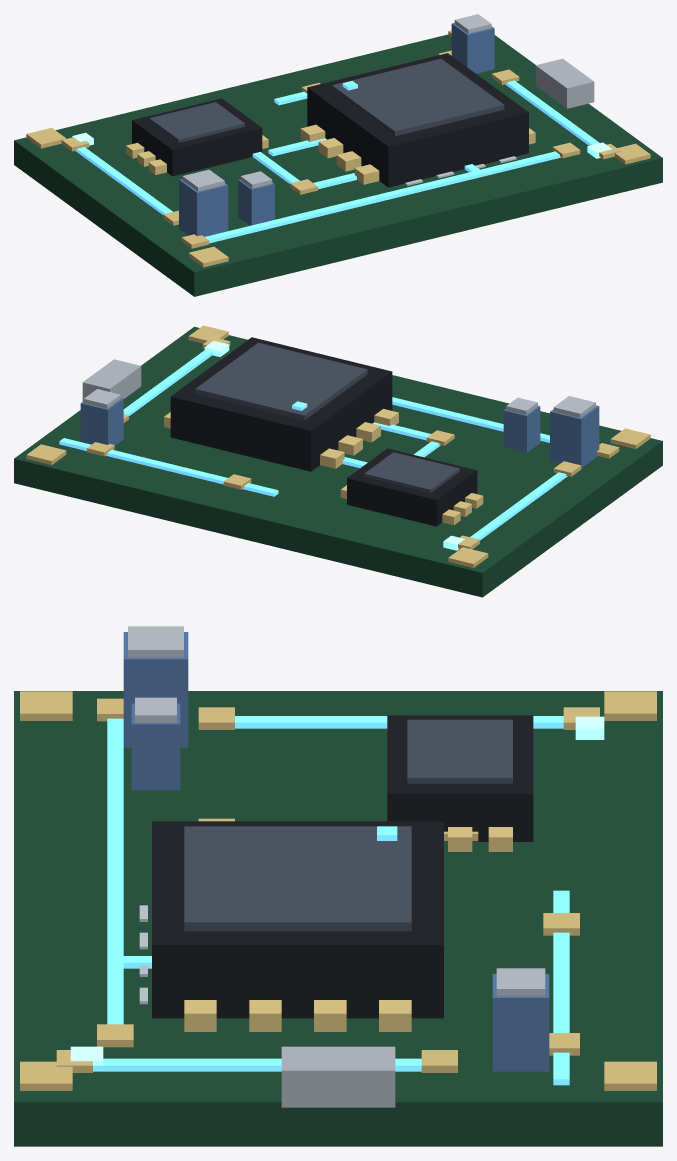
The model's file is chip.glb.
The picture shows the model from 3 angles, top to bottom: view 1: azimuth 30°, elevation 25°; view 2: azimuth 150°, elevation 25°; view 3: azimuth 270°, elevation 25°; orthographic projection. The views are drawn at different scales.
Visible parts, largest first — view 1: PCB; view 2: PCB; view 3: PCB.
Boxes of the visible parts, box(x1,y1,x2,y2) form: PCB: box(14, 14, 662, 296); PCB: box(14, 325, 662, 597); PCB: box(14, 626, 662, 1146).
Bounding box in the file's own units: 2.43 × 0.38 × 1.6.
